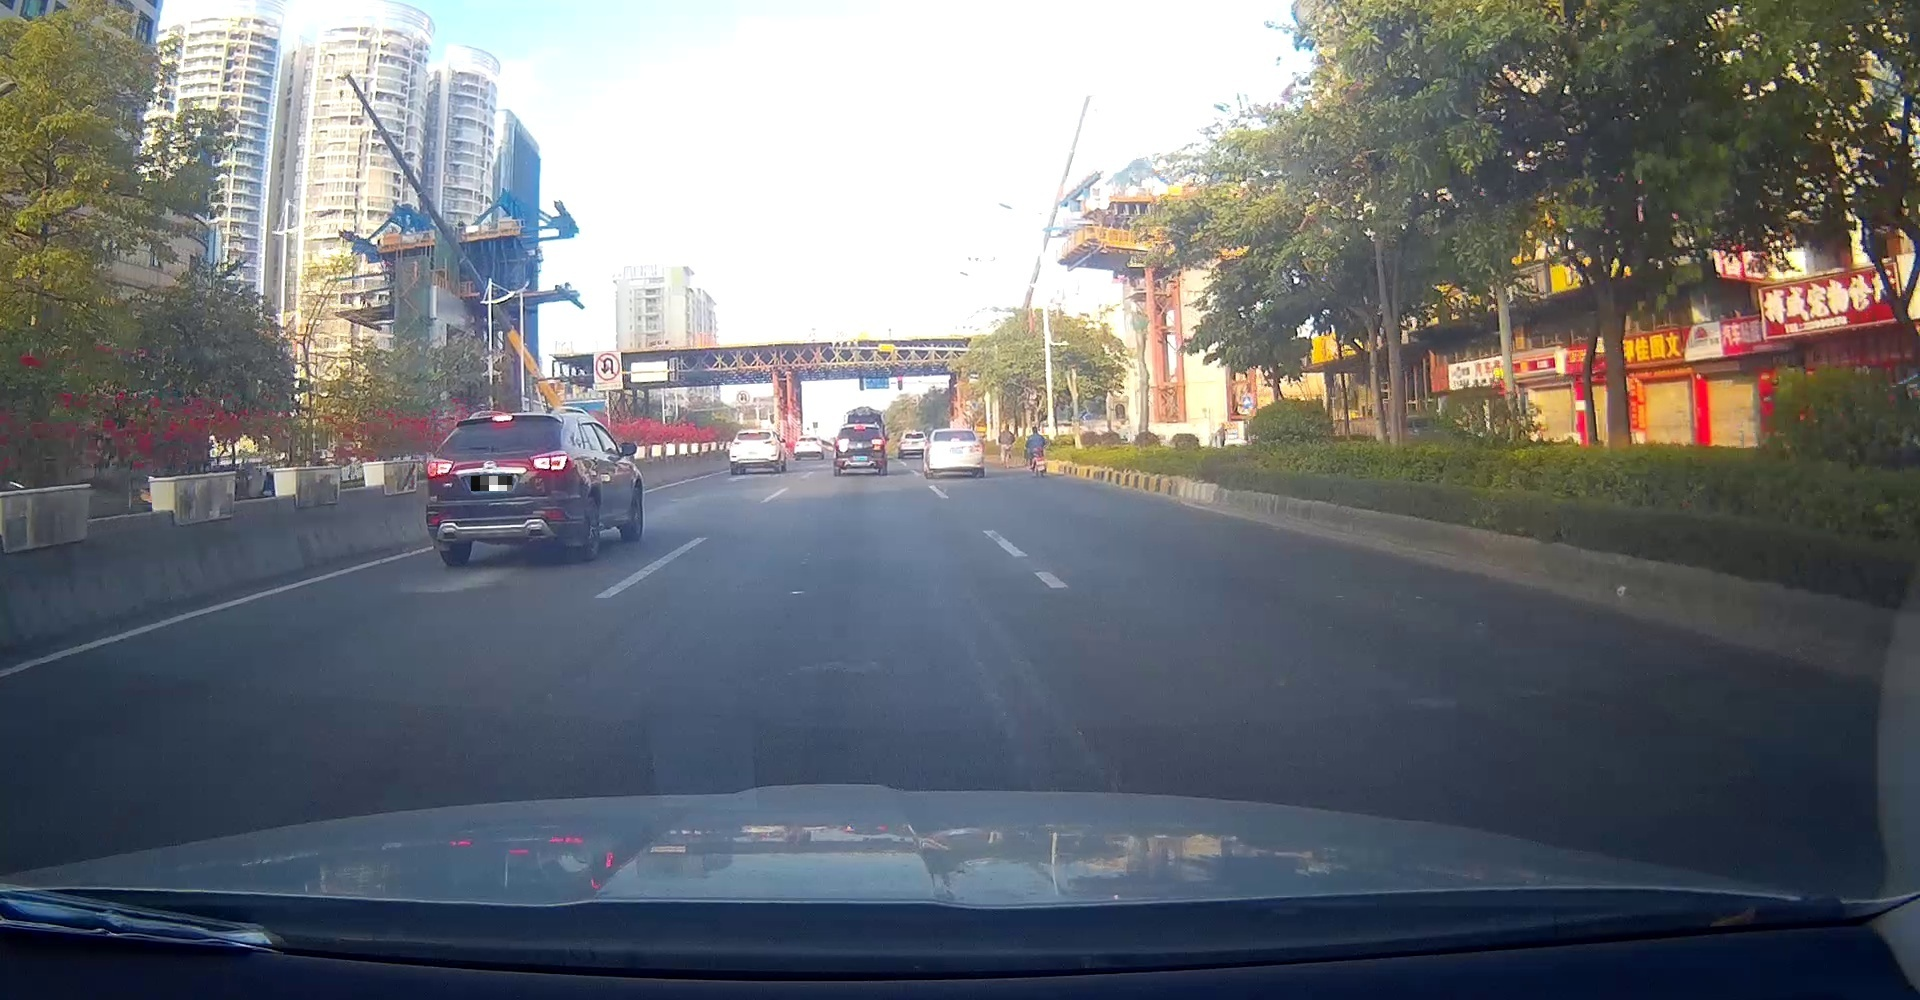L_light: (428, 459, 455, 480), (836, 439, 850, 452), (930, 445, 941, 453), (730, 442, 742, 445)
R_light: (530, 451, 568, 471), (871, 438, 884, 452), (970, 444, 982, 452), (762, 440, 775, 445)
T_light: (490, 412, 513, 423), (855, 425, 865, 431), (950, 438, 959, 442), (748, 431, 758, 434)
day-brake: (425, 412, 575, 565), (833, 423, 888, 476), (930, 429, 983, 478), (729, 429, 778, 475)
plate_1: (471, 476, 512, 491)
